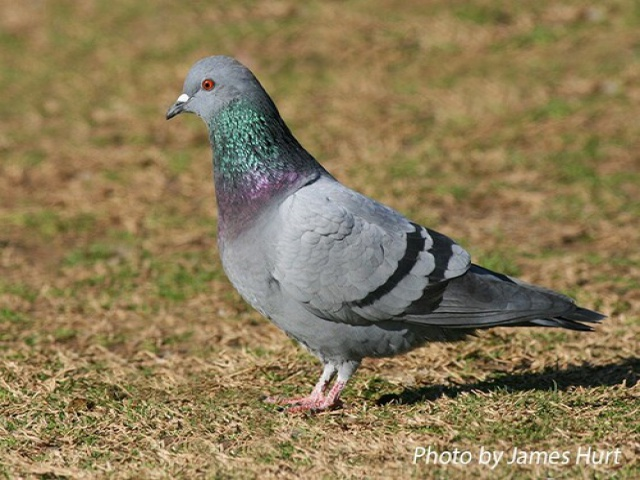Pigeon: (164, 51, 611, 396)
